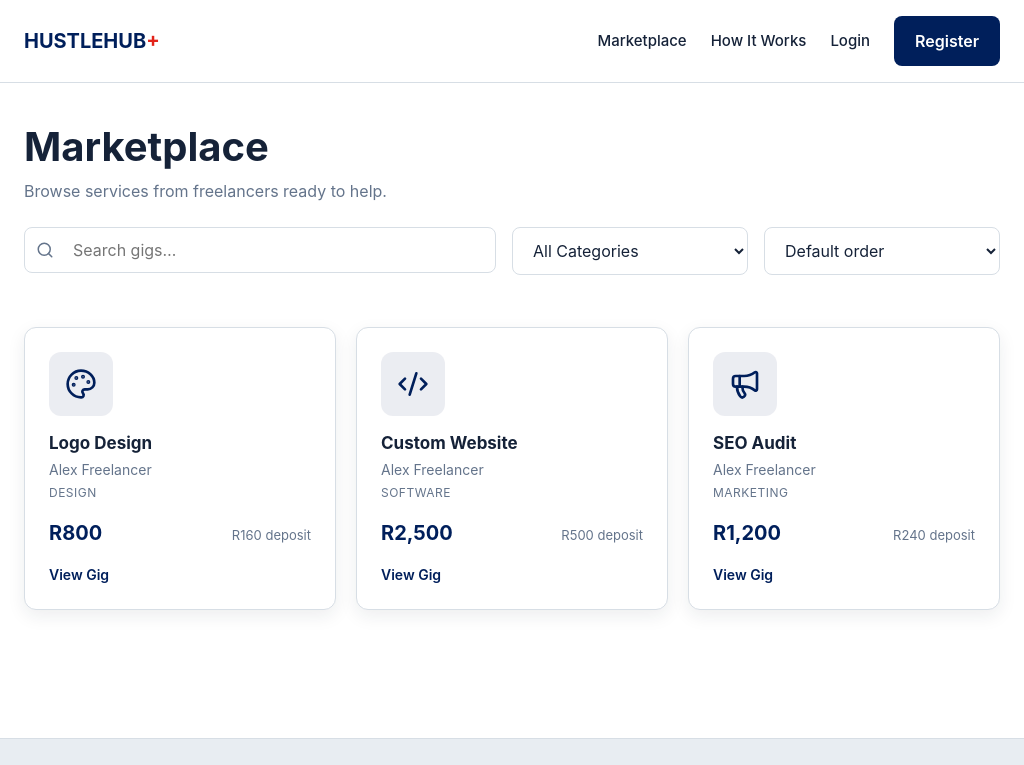
Marketplace filtering › the category filter asks the server for that exact category
This screenshot has width=1024, height=765.
Expected: the heading "Logo Design" is shown, x1=49 y1=433 x2=152 y2=453
Select "Design" in the 1st dropdown at [630, 251], box x1=512 y1=227 x2=748 y2=275
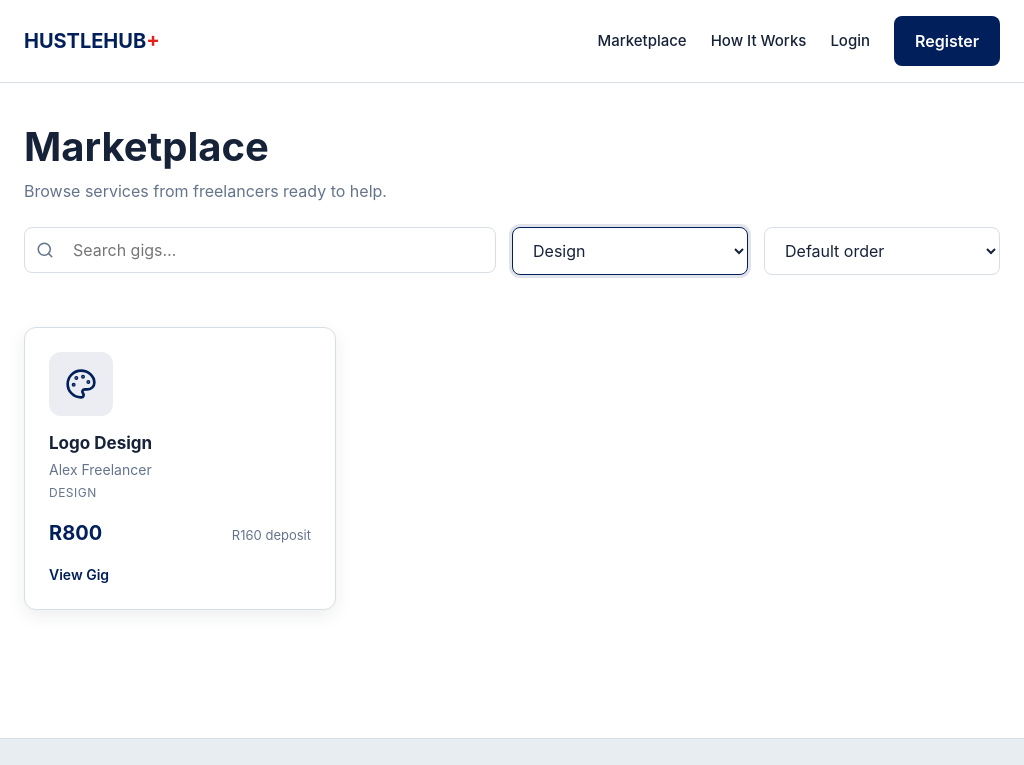
Expected: the heading "Logo Design" is shown, x1=49 y1=433 x2=152 y2=453
Now the link "Custom Website" is gone
